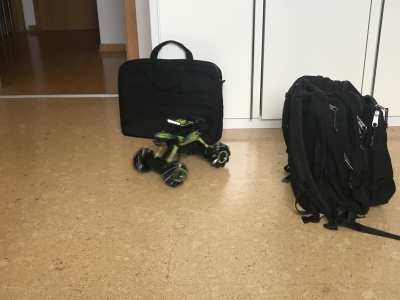remote control car: (130, 114, 233, 189)
